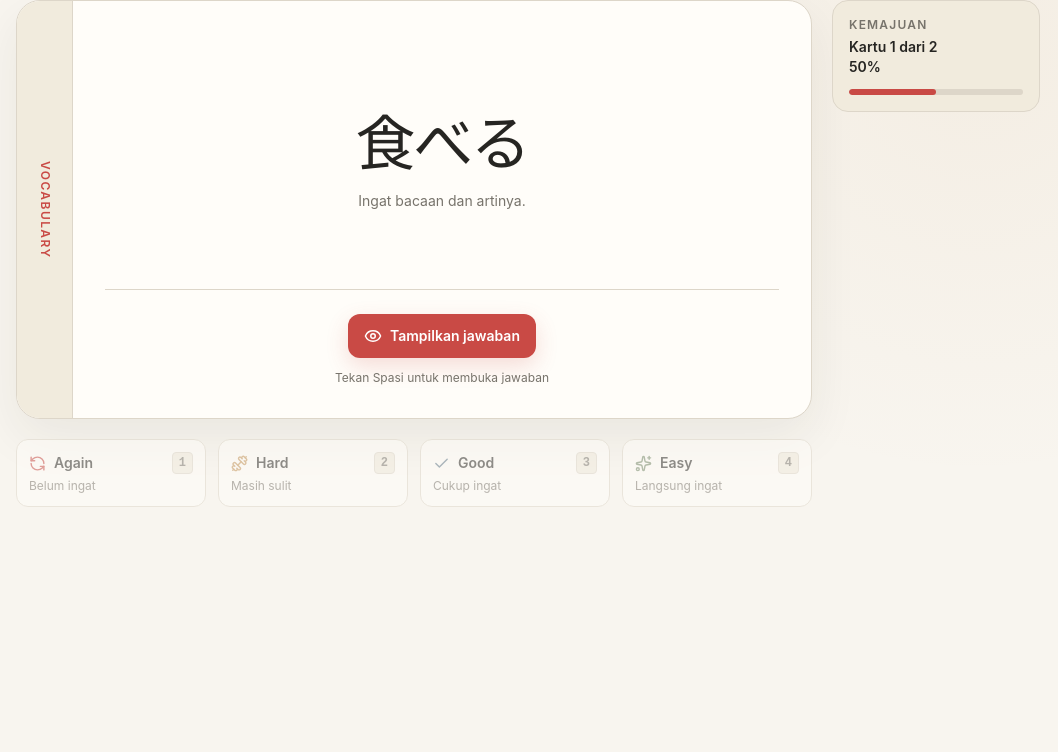
FlashcardSession › records Again once with its response payload and advances hidden to the next card
The width and height of the screenshot is (1058, 752).
Click the button "Tampilkan jawaban" at (442, 336), box [348,314,536,358]
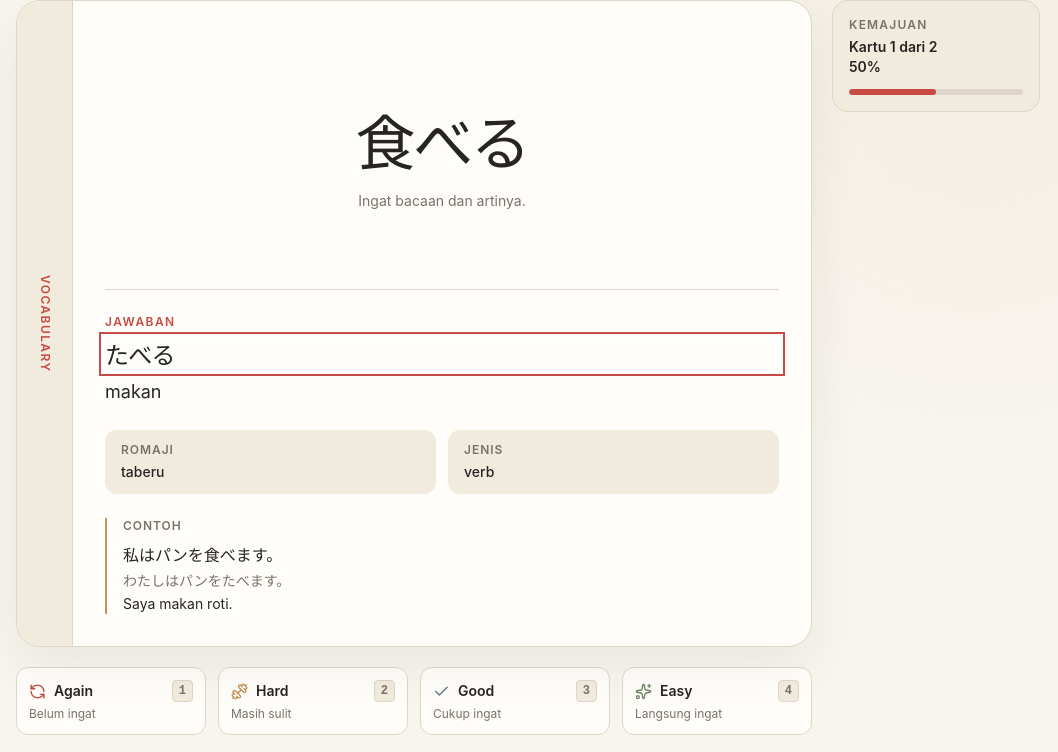
Click the button "Again 1 Belum ingat" at (111, 701), box [16,667,206,735]
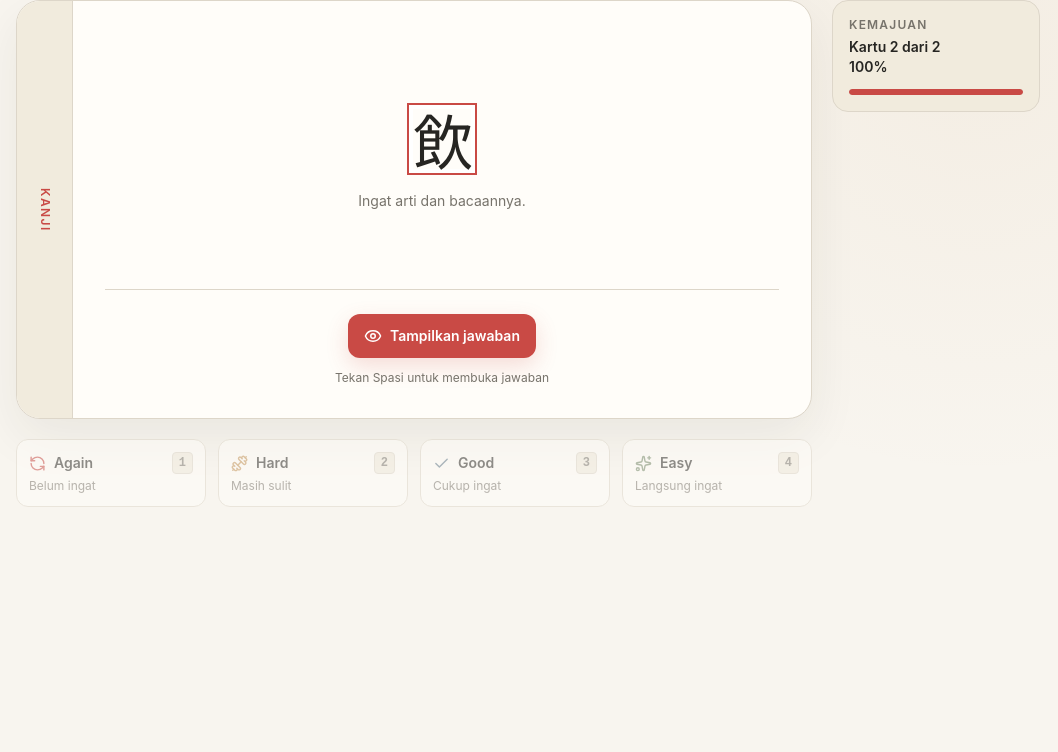
Check: the text "Kartu 2 dari 2" is shown, box [849,38,940,55]
Check: the button "Again 1 Belum ingat" is disabled, box [16,439,206,507]
